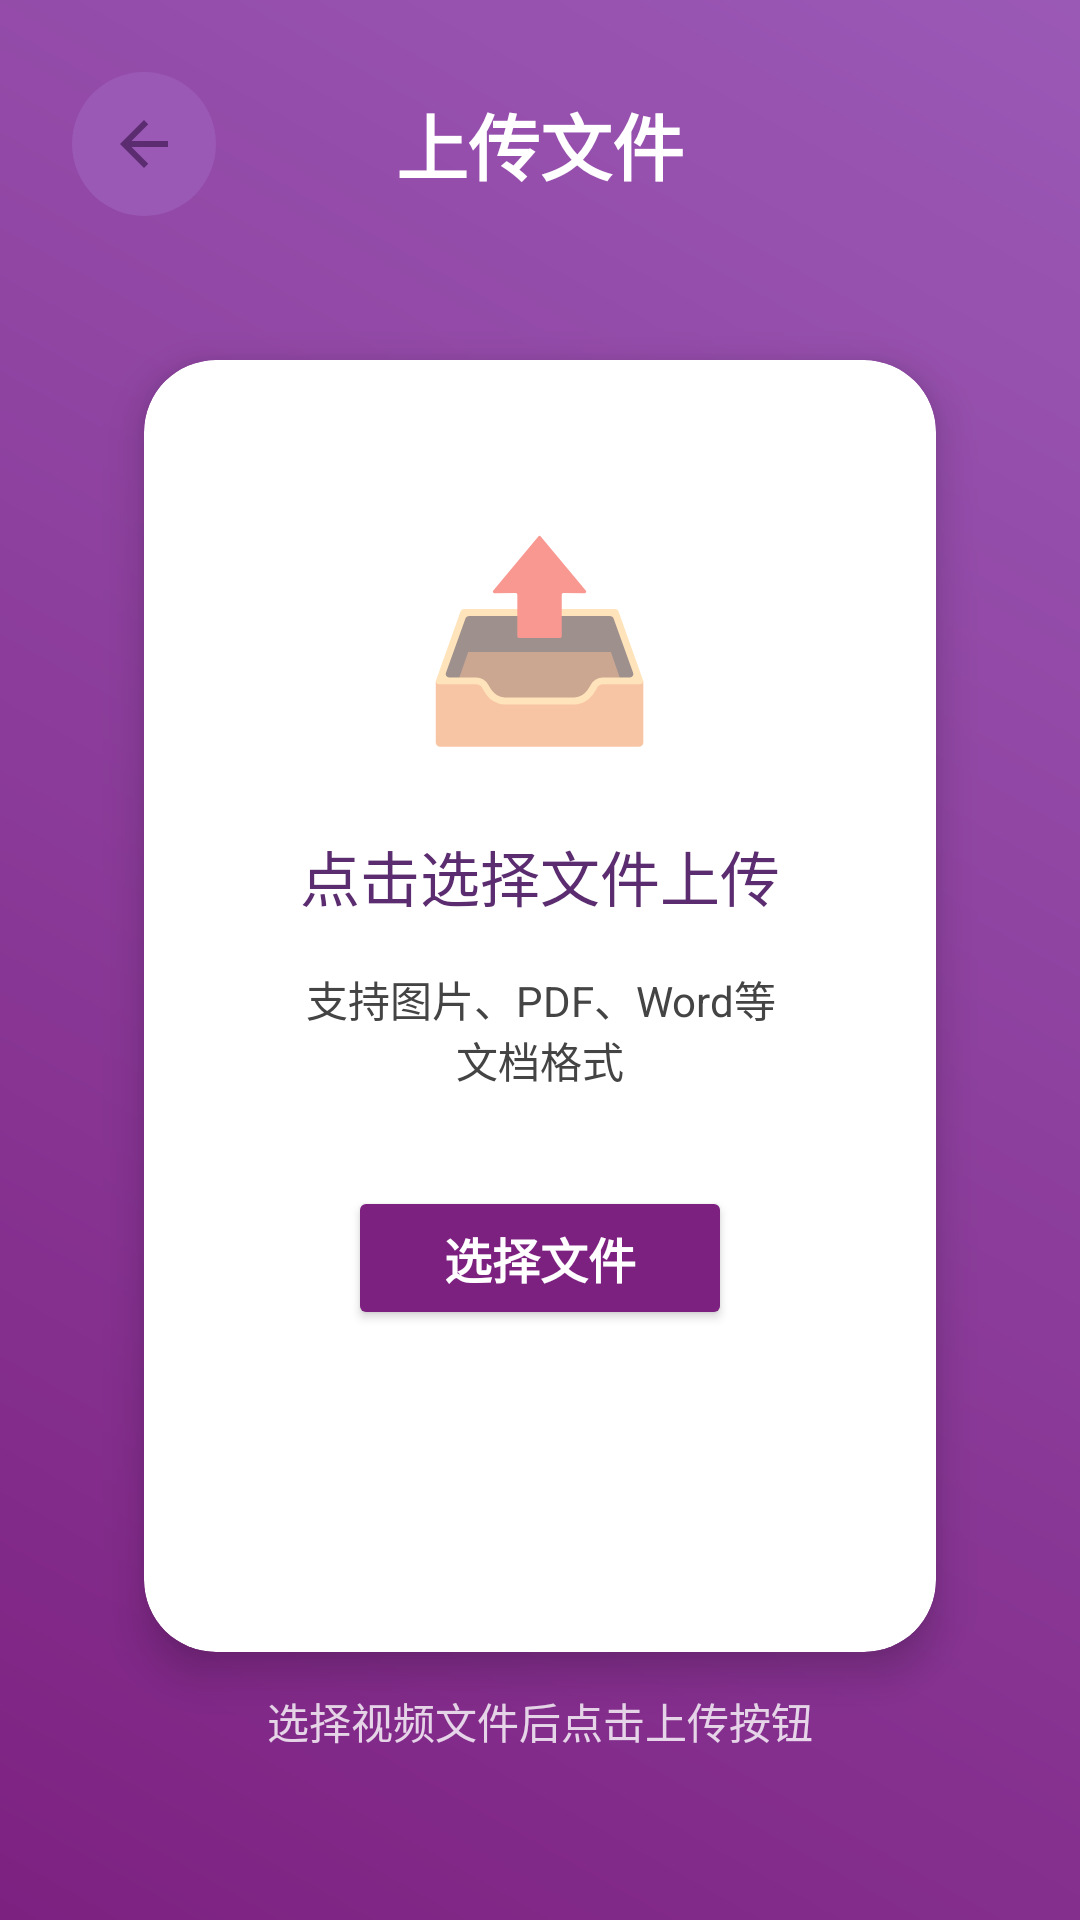

Icons on this 1080 x 1920 Android screen, each with its box as (x1, y1, x2, y2):
返回: (72, 72, 216, 216)
